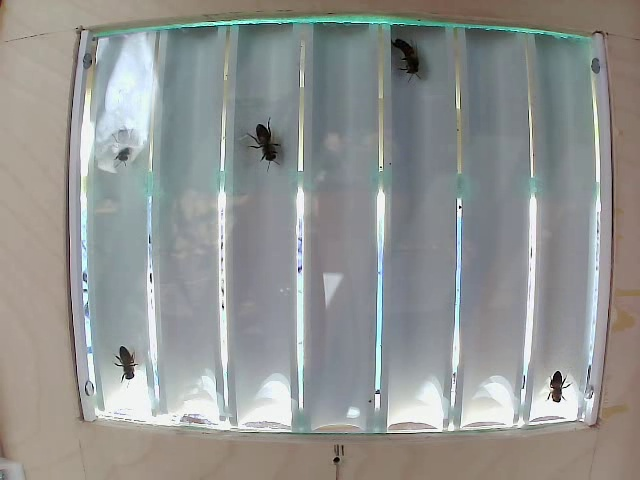bee: (246, 109, 298, 166), (379, 28, 432, 79), (104, 120, 151, 169), (106, 332, 135, 376)
